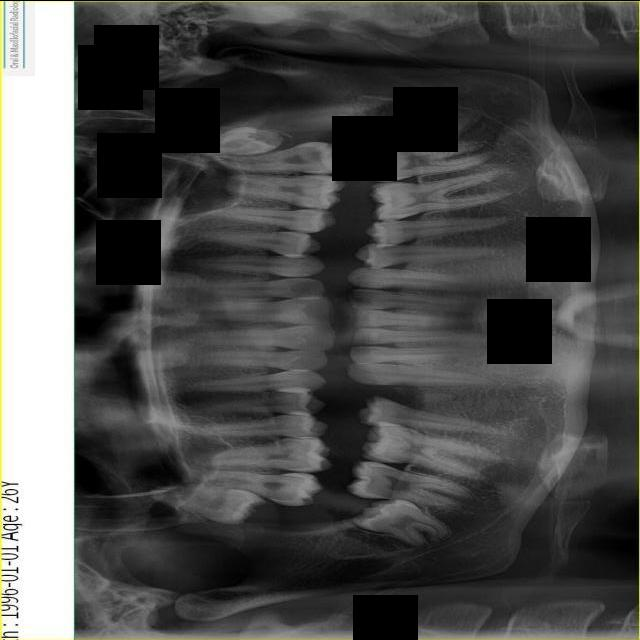72: (399, 387, 457, 407)
Sterngold Implant: (305, 145, 326, 163), (388, 193, 403, 210), (361, 473, 378, 485), (385, 155, 398, 168), (376, 219, 395, 224)
